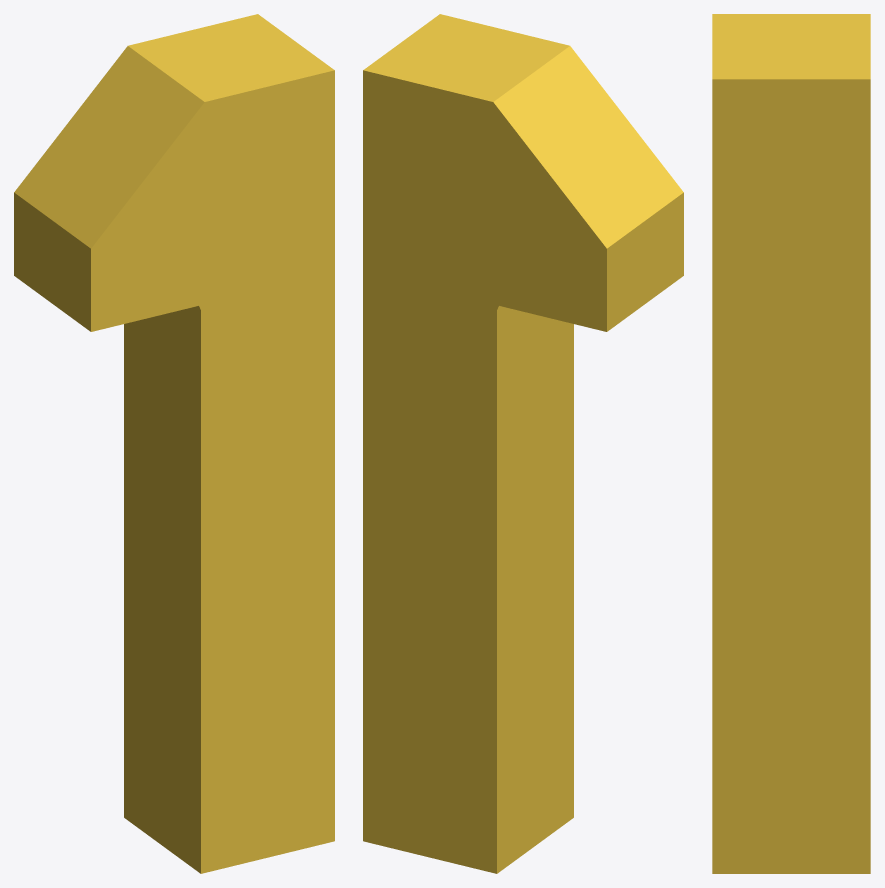
The model's file is One.glb.
The picture shows the model from 3 angles, left to right: view 1: azimuth 30°, elevation 25°; view 2: azimuth 150°, elevation 25°; view 3: azimuth 270°, elevation 25°; orthographic projection. The views are drawn at different scales.
Visible parts, largest first — view 1: OneA.6, OneA.2, OneA.3, OneA.1, OneA.4, OneA.5; view 2: OneA.6, OneA.2, OneA.3, OneA.1, OneA.4, OneA.5; view 3: OneA.5, OneA.4, OneA.2, OneA.3, OneA.1, OneA.6.
Part boxes in pixels (left/top/right/bottom): OneA.6: left=14, top=33, right=257, bottom=331; OneA.2: left=124, top=512, right=334, bottom=725; OneA.3: left=124, top=360, right=334, bottom=568; OneA.1: left=124, top=669, right=334, bottom=873; OneA.4: left=124, top=214, right=334, bottom=416; OneA.5: left=181, top=14, right=334, bottom=309; OneA.6: left=440, top=33, right=683, bottom=331; OneA.2: left=363, top=512, right=573, bottom=725; OneA.3: left=363, top=360, right=573, bottom=568; OneA.1: left=363, top=669, right=573, bottom=873; OneA.4: left=363, top=214, right=573, bottom=416; OneA.5: left=363, top=14, right=516, bottom=309; OneA.5: left=712, top=41, right=870, bottom=227; OneA.4: left=712, top=227, right=870, bottom=401; OneA.2: left=712, top=559, right=870, bottom=720; OneA.3: left=712, top=401, right=870, bottom=559; OneA.1: left=712, top=721, right=870, bottom=873; OneA.6: left=712, top=14, right=870, bottom=40.
Size of the model in its own units: 0.4806 by 1.45 by 0.2627.
